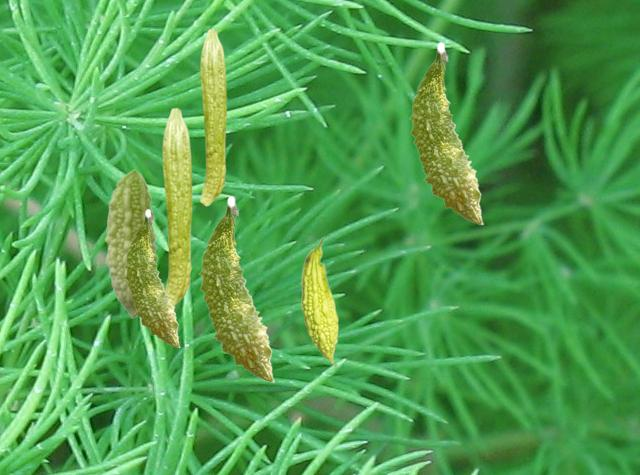ampalaya: (198, 195, 275, 383), (408, 41, 484, 225), (104, 168, 158, 318), (123, 208, 180, 348), (162, 107, 192, 305), (300, 237, 339, 367), (199, 28, 227, 206)
